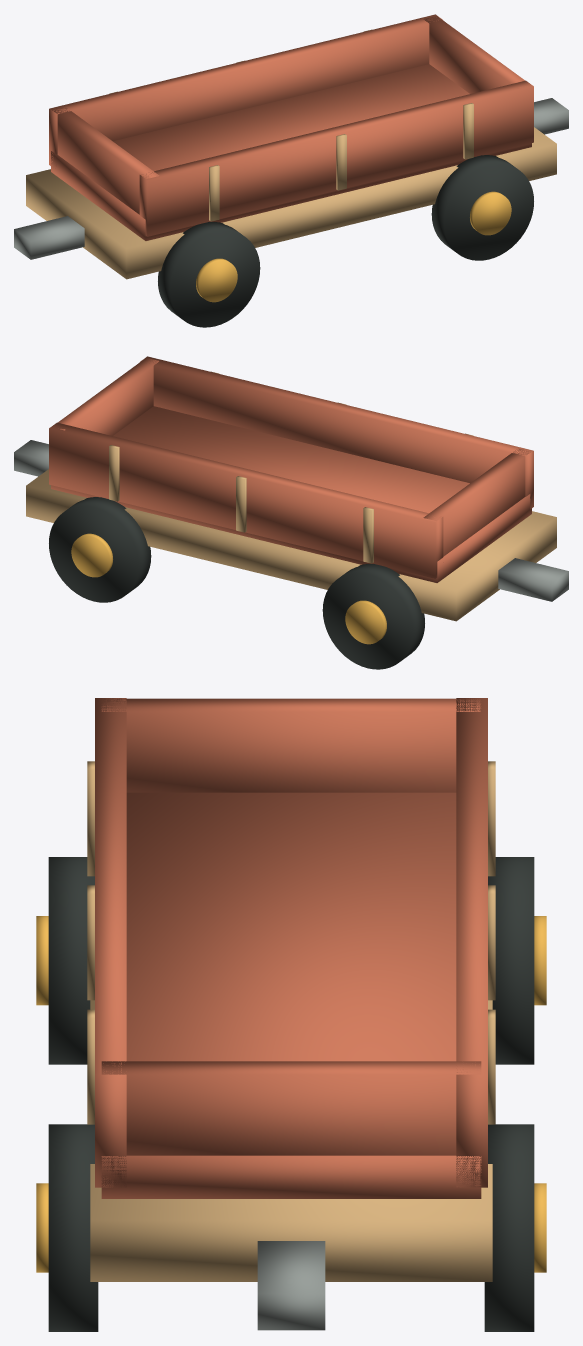
File: fleet-carriage.glb
The picture shows the model from 3 angles, top to bottom: view 1: azimuth 30°, elevation 25°; view 2: azimuth 150°, elevation 25°; view 3: azimuth 270°, elevation 25°; orthographic projection. The views are drawn at different scales.
Visible parts, largest first — view 1: Carriage_Side, Carriage_Side.001, Carriage_Bed, Carriage_Chassis, Carriage_ROOT_Wheel_1_-1, Carriage_ROOT_Wheel_0_-1, Carriage_End, Carriage_End.001, Carriage_Coupler, Carriage_ROOT_Hub_0_-1, Carriage_ROOT_Hub_1_-1, Carriage_Coupler.001 (+3 smaller); view 2: Carriage_Side.001, Carriage_Side, Carriage_Bed, Carriage_Chassis, Carriage_ROOT_Wheel_1_1, Carriage_ROOT_Wheel_0_1, Carriage_End, Carriage_End.001, Carriage_Coupler, Carriage_ROOT_Hub_0_1, Carriage_ROOT_Hub_1_1, Carriage_Coupler.001 (+3 smaller); view 3: Carriage_Bed, Carriage_End.001, Carriage_End, Carriage_Chassis, Carriage_Side.001, Carriage_Side, Carriage_ROOT_Wheel_1_1, Carriage_ROOT_Wheel_1_-1, Carriage_ROOT_Wheel_0_1, Carriage_ROOT_Wheel_0_-1, Carriage_Coupler.001, Carriage_ROOT_Hub_0_1 (+9 smaller).
Part boxes in pixels (left/top/right/bottom): Carriage_Side: left=139, top=80, right=533, bottom=236; Carriage_Side.001: left=49, top=14, right=442, bottom=167; Carriage_Bed: left=51, top=64, right=531, bottom=240; Carriage_Chassis: left=26, top=127, right=556, bottom=279; Carriage_ROOT_Wheel_1_-1: left=431, top=155, right=533, bottom=260; Carriage_ROOT_Wheel_0_-1: left=158, top=222, right=260, bottom=327; Carriage_End: left=51, top=106, right=159, bottom=214; Carriage_End.001: left=423, top=15, right=524, bottom=93; Carriage_Coupler: left=14, top=216, right=84, bottom=259; Carriage_ROOT_Hub_0_-1: left=196, top=258, right=237, bottom=302; Carriage_ROOT_Hub_1_-1: left=470, top=191, right=511, bottom=235; Carriage_Coupler.001: left=534, top=98, right=568, bottom=134; Carriage_Side.001: left=49, top=422, right=443, bottom=578; Carriage_Side: left=140, top=356, right=533, bottom=509; Carriage_Bed: left=51, top=406, right=531, bottom=582; Carriage_Chassis: left=26, top=469, right=556, bottom=621; Carriage_ROOT_Wheel_1_1: left=49, top=497, right=151, bottom=602; Carriage_ROOT_Wheel_0_1: left=322, top=564, right=424, bottom=669; Carriage_End: left=423, top=449, right=530, bottom=556; Carriage_End.001: left=58, top=358, right=158, bottom=435; Carriage_Coupler: left=498, top=558, right=568, bottom=601; Carriage_ROOT_Hub_0_1: left=345, top=600, right=386, bottom=644; Carriage_ROOT_Hub_1_1: left=71, top=533, right=112, bottom=577; Carriage_Coupler.001: left=14, top=440, right=48, bottom=476; Carriage_Bed: left=101, top=792, right=481, bottom=1198; Carriage_End.001: left=101, top=1061, right=481, bottom=1155; Carriage_End: left=101, top=698, right=480, bottom=792; Carriage_Chassis: left=90, top=1000, right=492, bottom=1281; Carriage_Side.001: left=456, top=698, right=487, bottom=1187; Carriage_Side: left=95, top=698, right=126, bottom=1187; Carriage_ROOT_Wheel_1_1: left=484, top=1124, right=534, bottom=1331; Carriage_ROOT_Wheel_1_-1: left=48, top=1124, right=98, bottom=1331; Carriage_ROOT_Wheel_0_1: left=488, top=857, right=534, bottom=1064; Carriage_ROOT_Wheel_0_-1: left=48, top=857, right=94, bottom=1064; Carriage_Coupler.001: left=257, top=1241, right=325, bottom=1330; Carriage_ROOT_Hub_0_1: left=534, top=916, right=546, bottom=1005.
Size of the model in its own units: 5.5 by 1.48 by 2.26.
